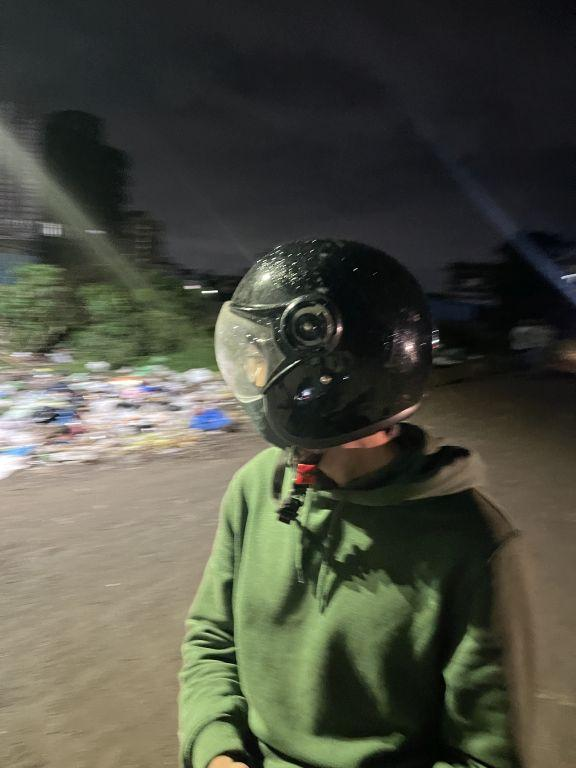helmet: (202, 217, 458, 473)
